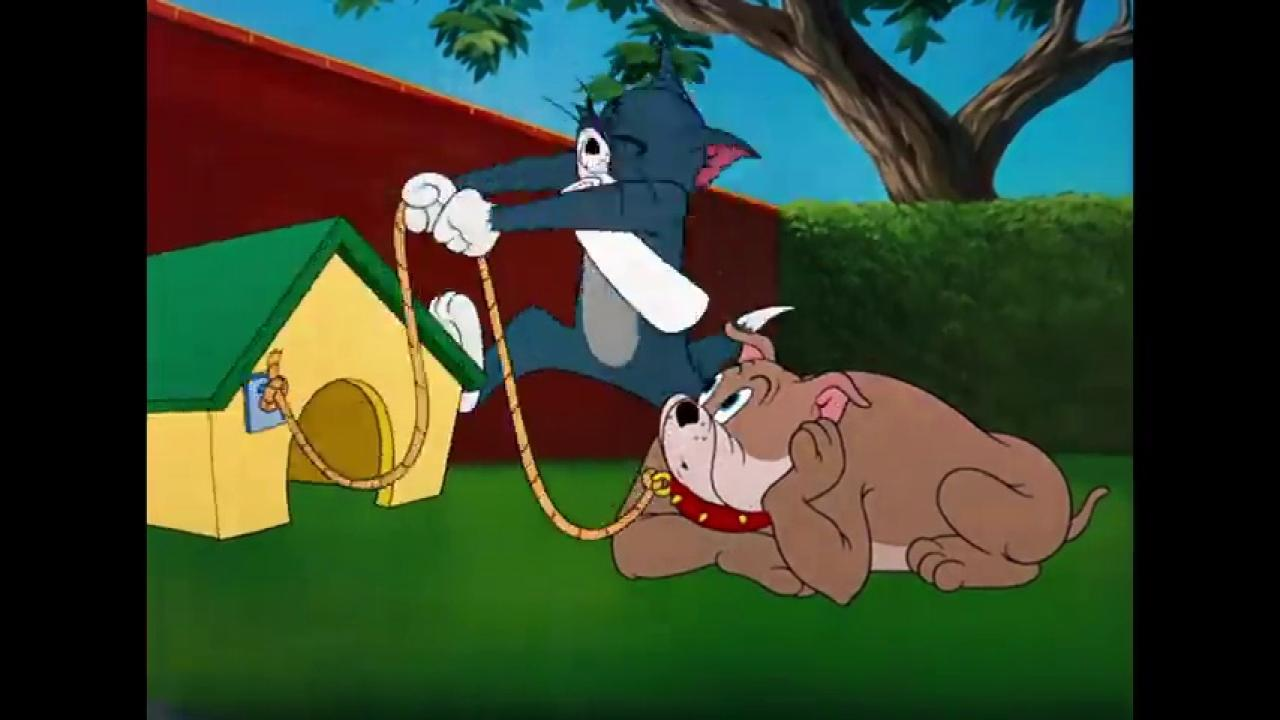Tom: (397, 36, 798, 414)
